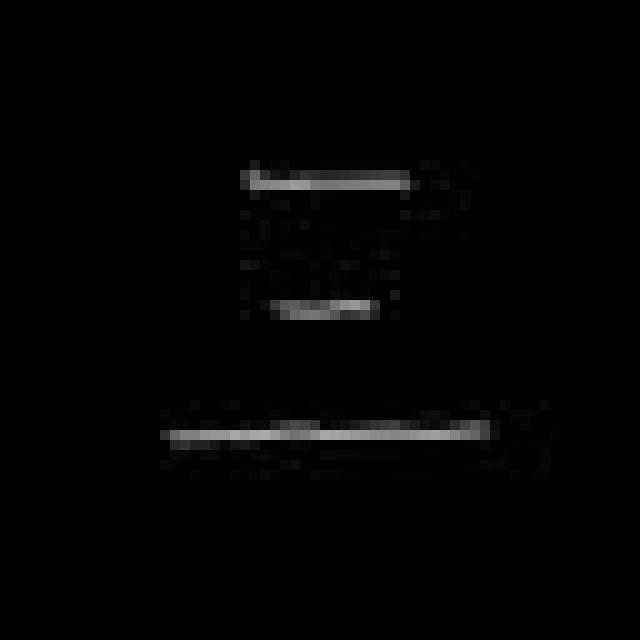3 -three-: (149, 155, 504, 468)
